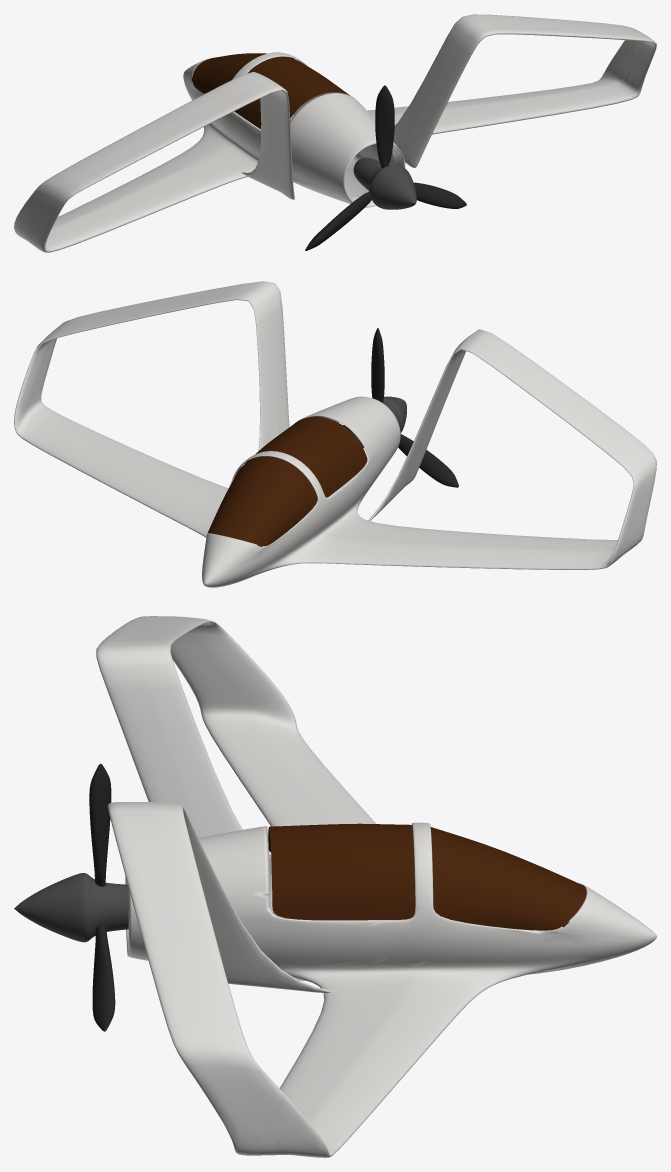
Rendered from synergy_full.opt.glb.
3 views of the same model, one above another, from view 1: azimuth 30°, elevation 25°; view 2: azimuth 150°, elevation 25°; view 3: azimuth 270°, elevation 25° (orthographic). The views are drawn at different scales.
Visible parts, largest first — view 1: Cylinder.006, Cylinder.010, Cone.001, Cylinder.011, Cylinder.009, Cylinder.008, Cylinder.007; view 2: Cylinder.006, Cylinder.011, Cylinder.010, Cylinder.008, Cylinder.009, Cone.001; view 3: Cylinder.006, Cylinder.010, Cylinder.011, Cone.001, Cylinder.009, Cylinder.007.
Part boxes in pixels (<box>): Cylinder.006: <box>14,14,656,252</box>; Cylinder.010: <box>234,57,349,128</box>; Cone.001: <box>353,157,416,209</box>; Cylinder.011: <box>192,53,293,93</box>; Cylinder.009: <box>375,85,394,167</box>; Cylinder.008: <box>305,191,371,250</box>; Cylinder.007: <box>414,182,466,208</box>; Cylinder.006: <box>14,281,656,587</box>; Cylinder.011: <box>207,456,317,546</box>; Cylinder.010: <box>245,416,367,497</box>; Cylinder.008: <box>398,434,458,487</box>; Cylinder.009: <box>371,328,384,402</box>; Cone.001: <box>350,396,406,447</box>; Cylinder.006: <box>96,616,656,1157</box>; Cylinder.010: <box>268,823,415,920</box>; Cylinder.011: <box>430,827,586,930</box>; Cone.001: <box>14,873,128,942</box>; Cylinder.009: <box>89,763,111,886</box>; Cylinder.007: <box>92,924,115,1031</box>.
Size of the model in its own units: 4.27 by 1.13 by 2.64.
